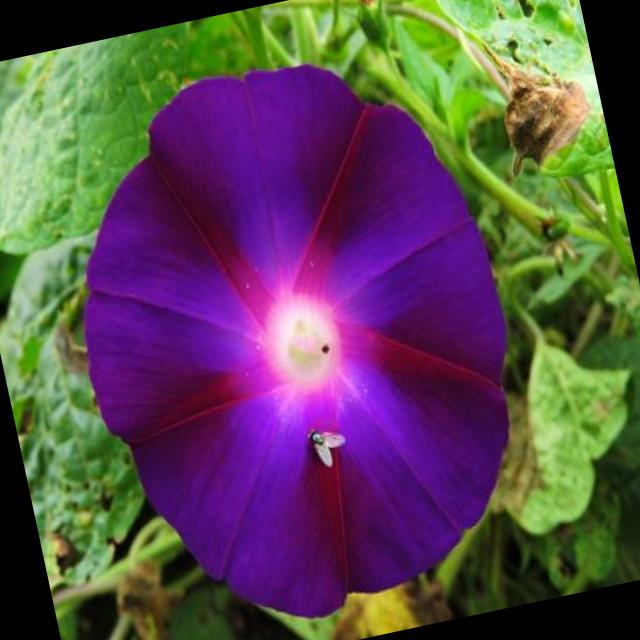ipomoea: (28, 21, 563, 640)
